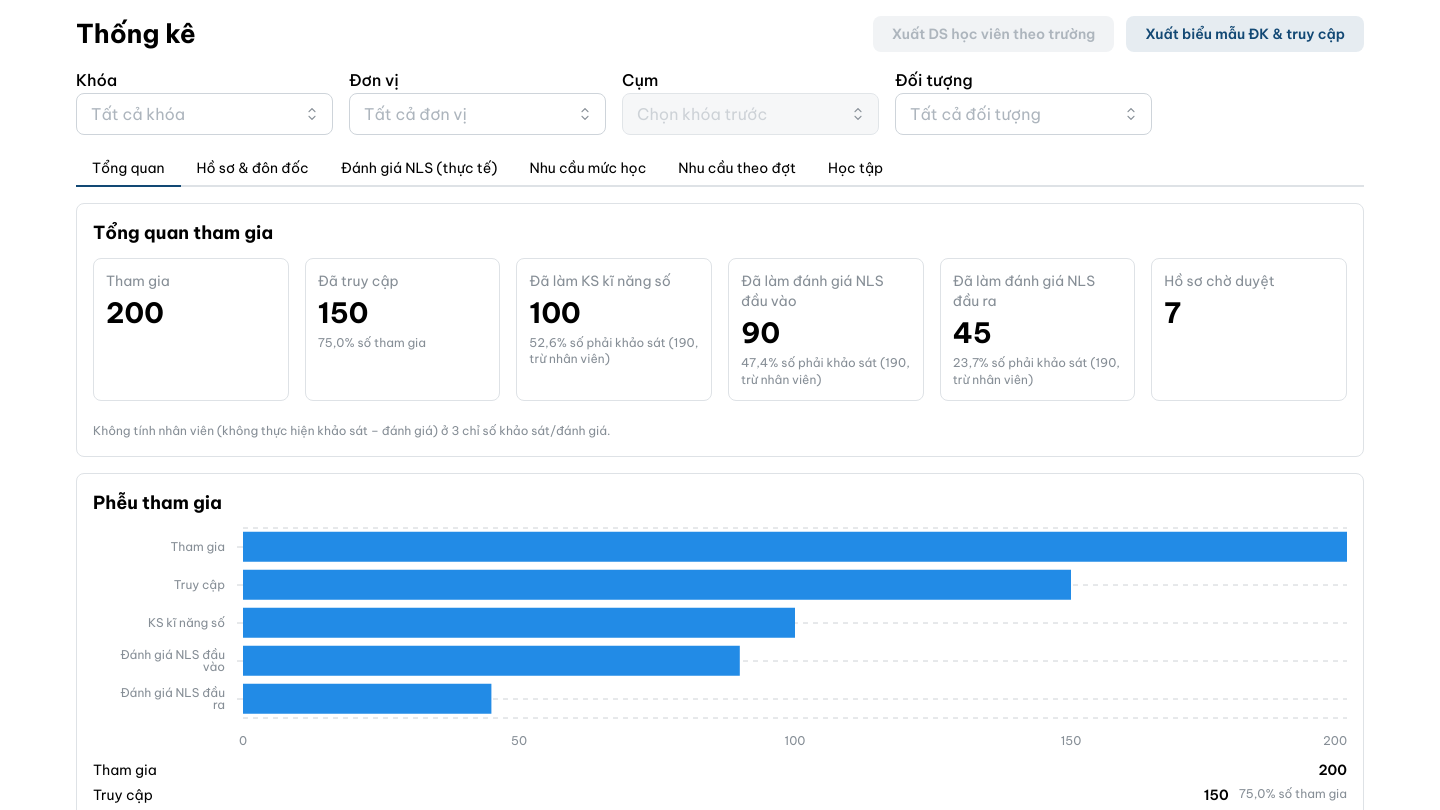
DashboardThongKe › chế độ admin có tab "Nhu cầu theo đợt"; chưa chọn khóa thì nhắc chọn khóa
The width and height of the screenshot is (1440, 810).
Expected: the element with test id "kpi-tham-gia" is shown, [93,258,289,402]
Click the tab "Nhu cầu theo đợt" at (737, 169), box [662,151,812,187]
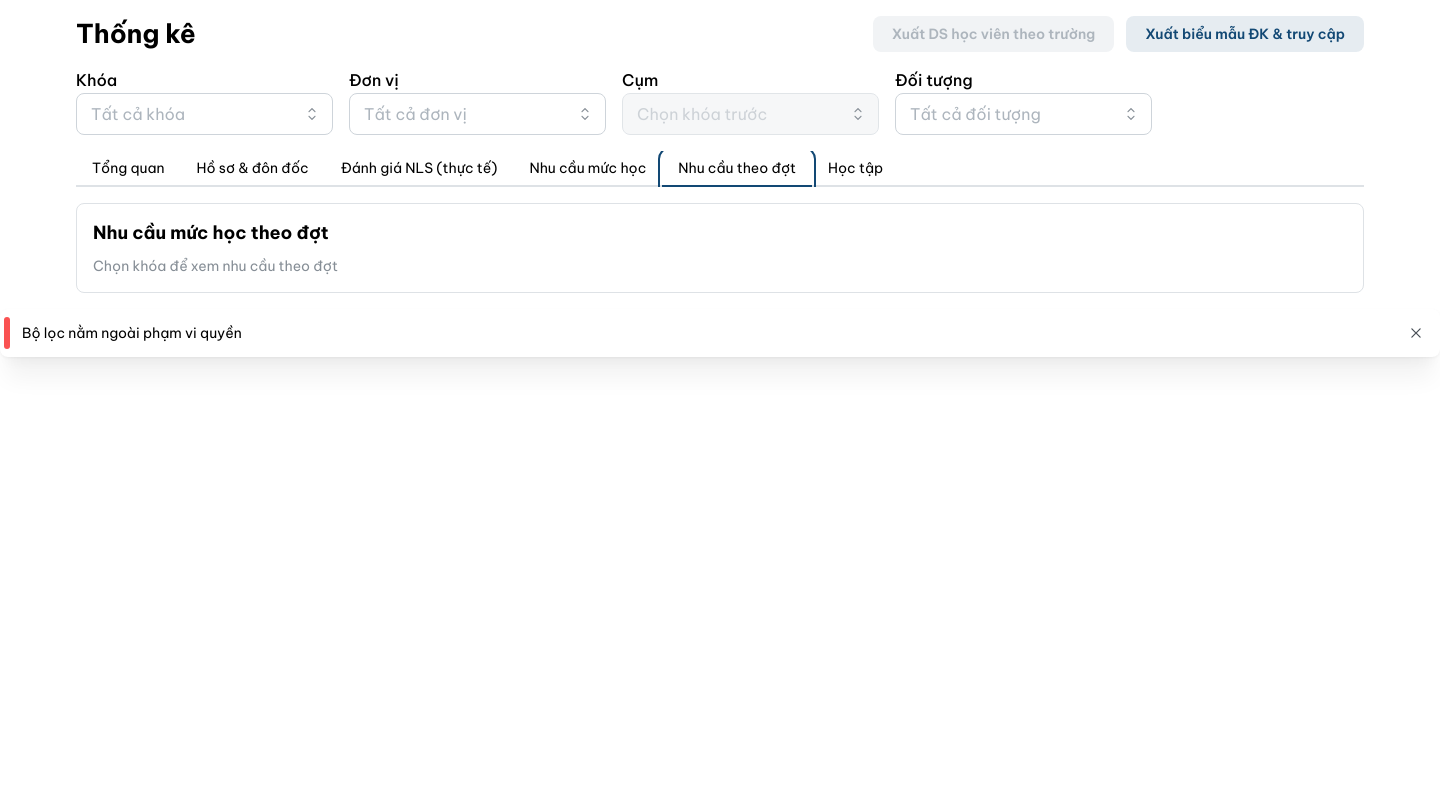
Result: the text "Chọn khóa để xem nhu cầu theo đợt" is shown at [93,257,338,275]
